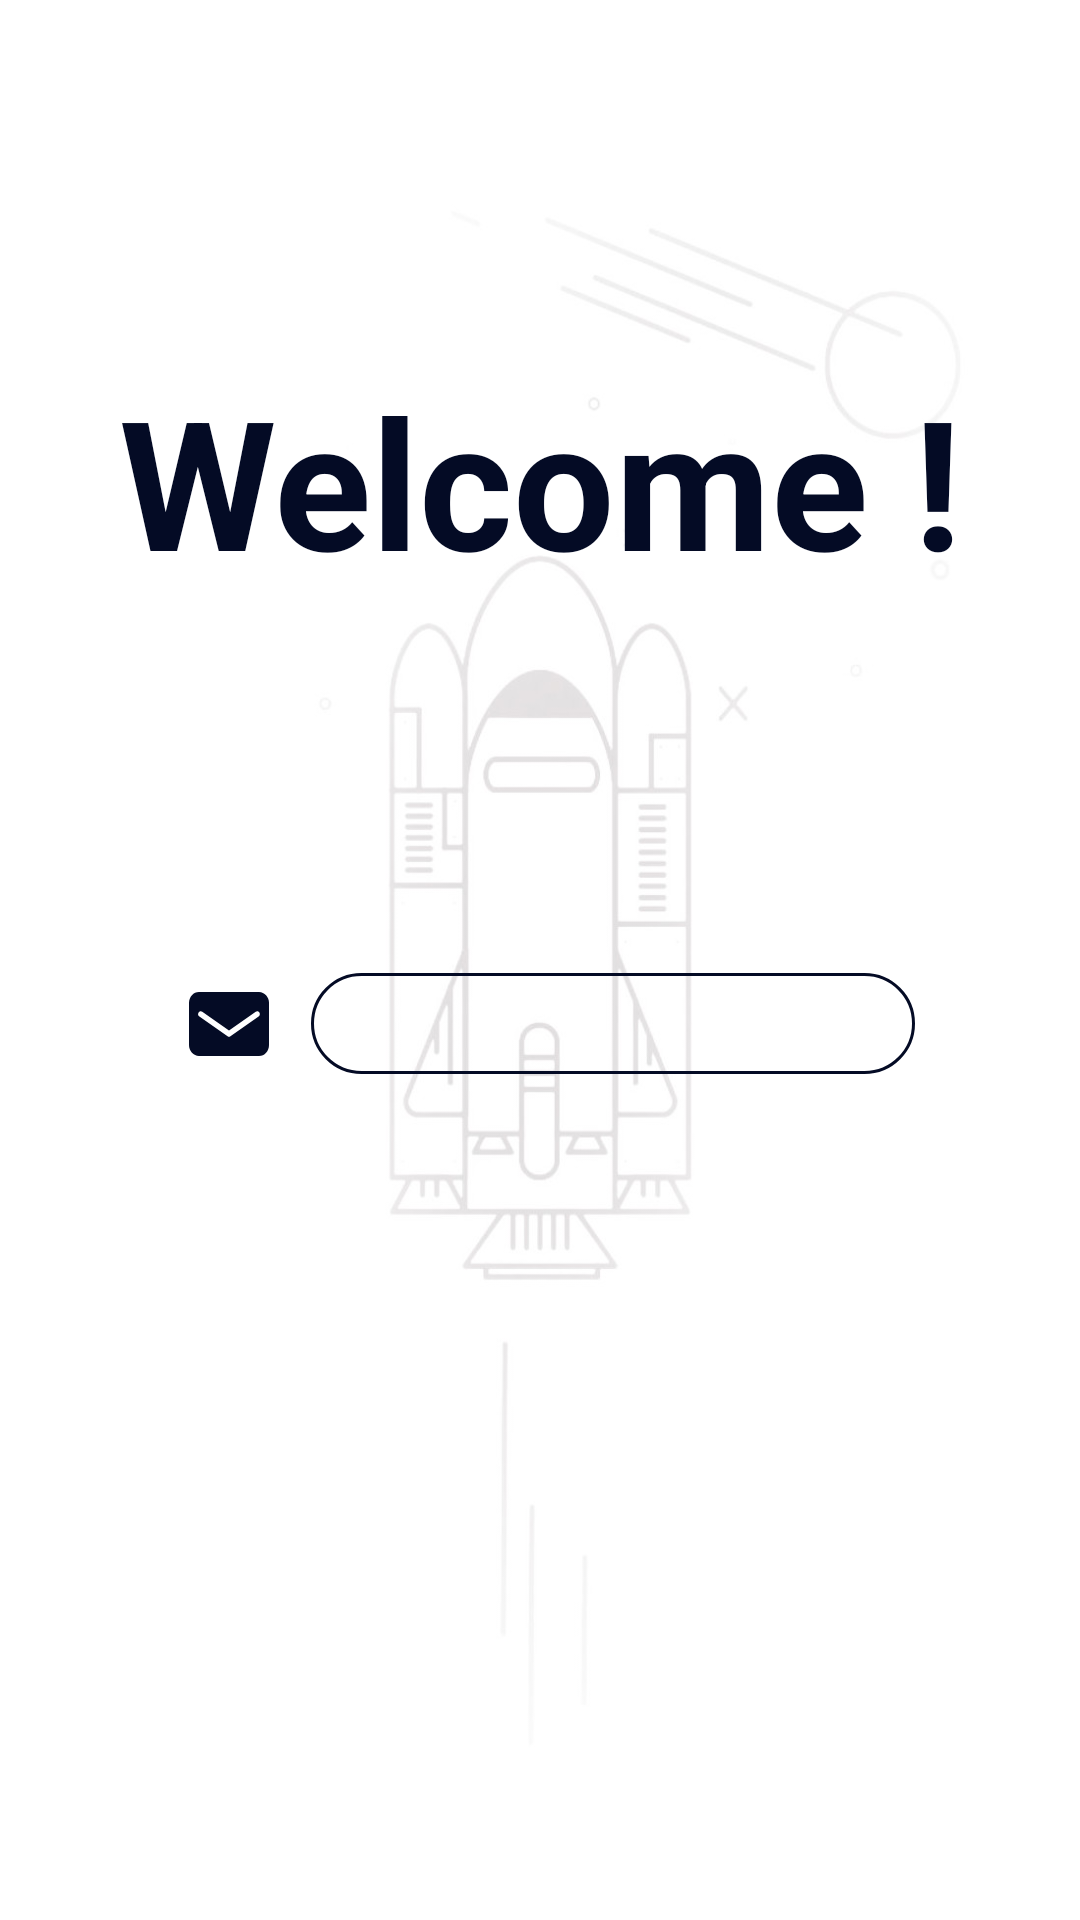

Screen size 1080px×1920px. Icon name, then its box in pixels as [x1, y1, x2, y2]:
mailbox: [189, 992, 269, 1056]
